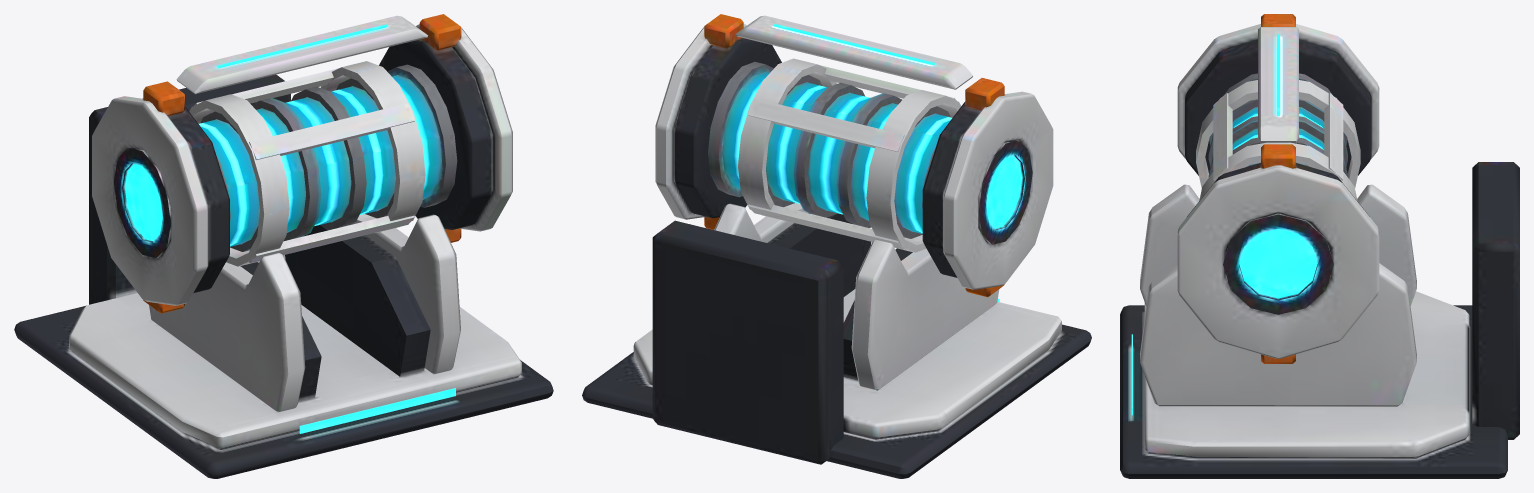
The model's file is R4X_Battery_LOD1.glb.
The picture shows the model from 3 angles, left to right: view 1: azimuth 30°, elevation 25°; view 2: azimuth 150°, elevation 25°; view 3: azimuth 270°, elevation 25°; orthographic projection. The views are drawn at different scales.
Parts seen in each view (by area): view 1: R4X_Battery_LOD1; view 2: R4X_Battery_LOD1; view 3: R4X_Battery_LOD1.
Boxes of the visible parts, box(x1,y1,x2,y2) form: R4X_Battery_LOD1: box(14, 14, 553, 478); R4X_Battery_LOD1: box(582, 14, 1091, 478); R4X_Battery_LOD1: box(1120, 14, 1519, 478).
Size of the model in its own units: 0.49 by 0.4545 by 0.505.
Materials: 4 (4 with a texture image).
